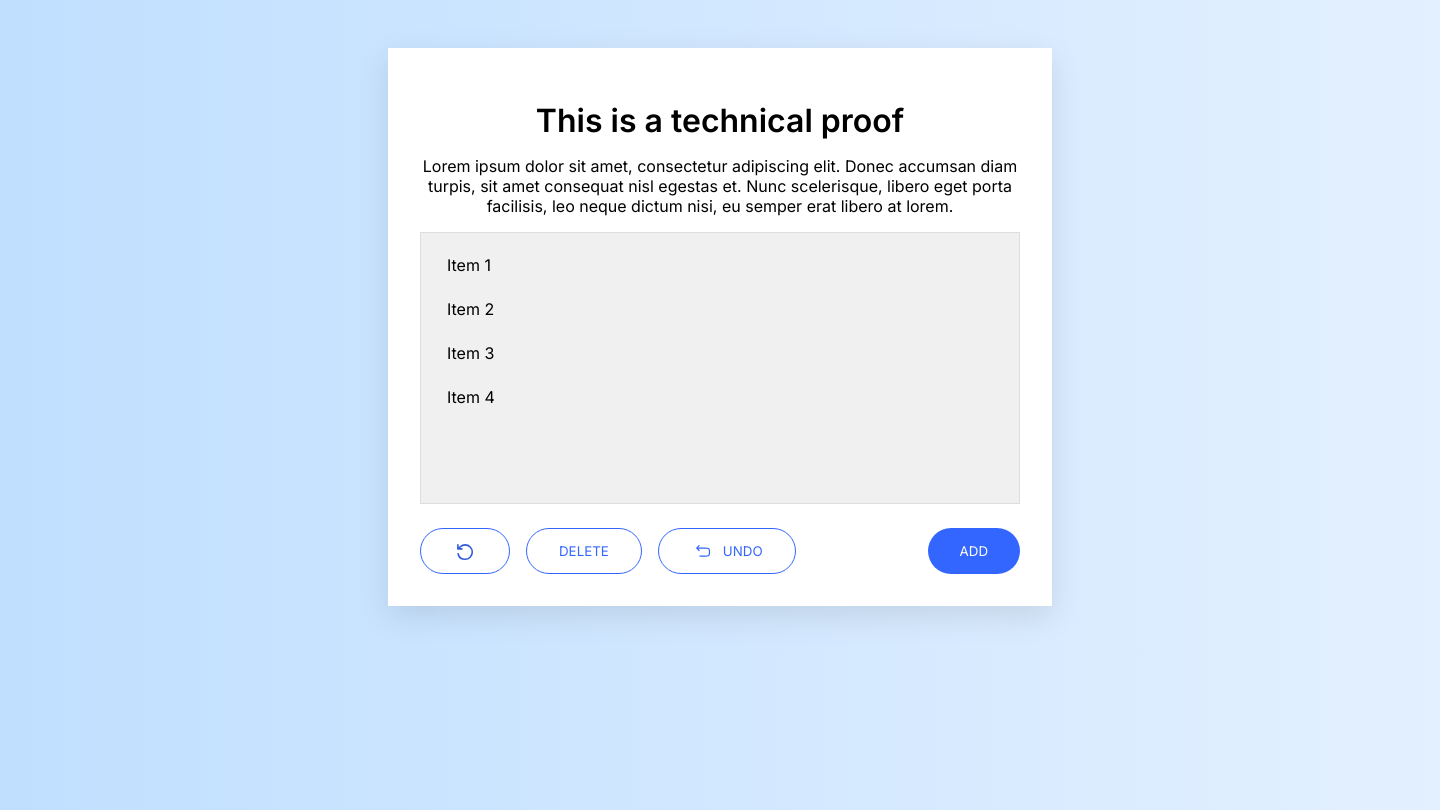
Scenario: Home component › selects and deletes an item
Click the option "Item 2": (471, 309) [447,299,494,319]
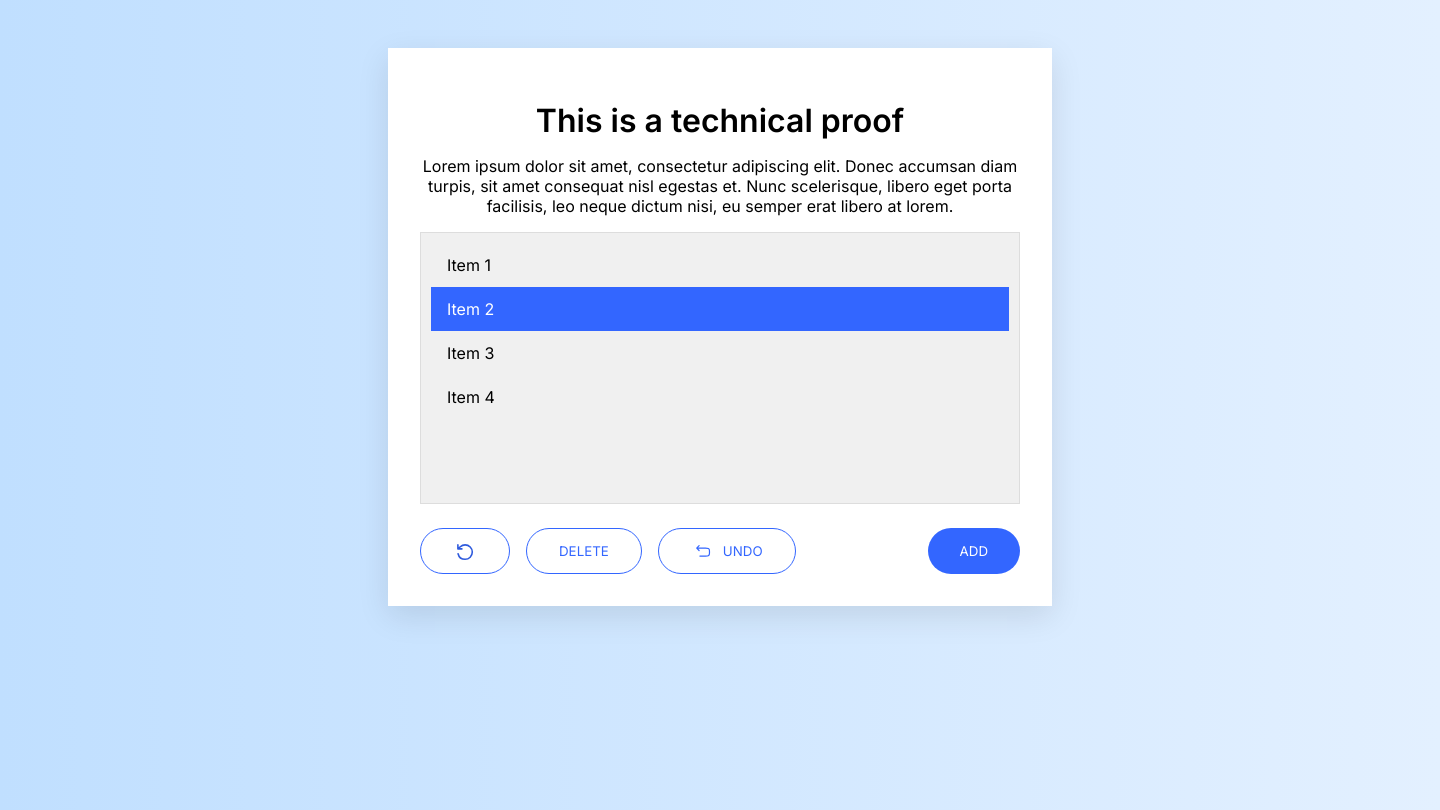
Click the button "DELETE": (584, 551) [526,528,642,574]
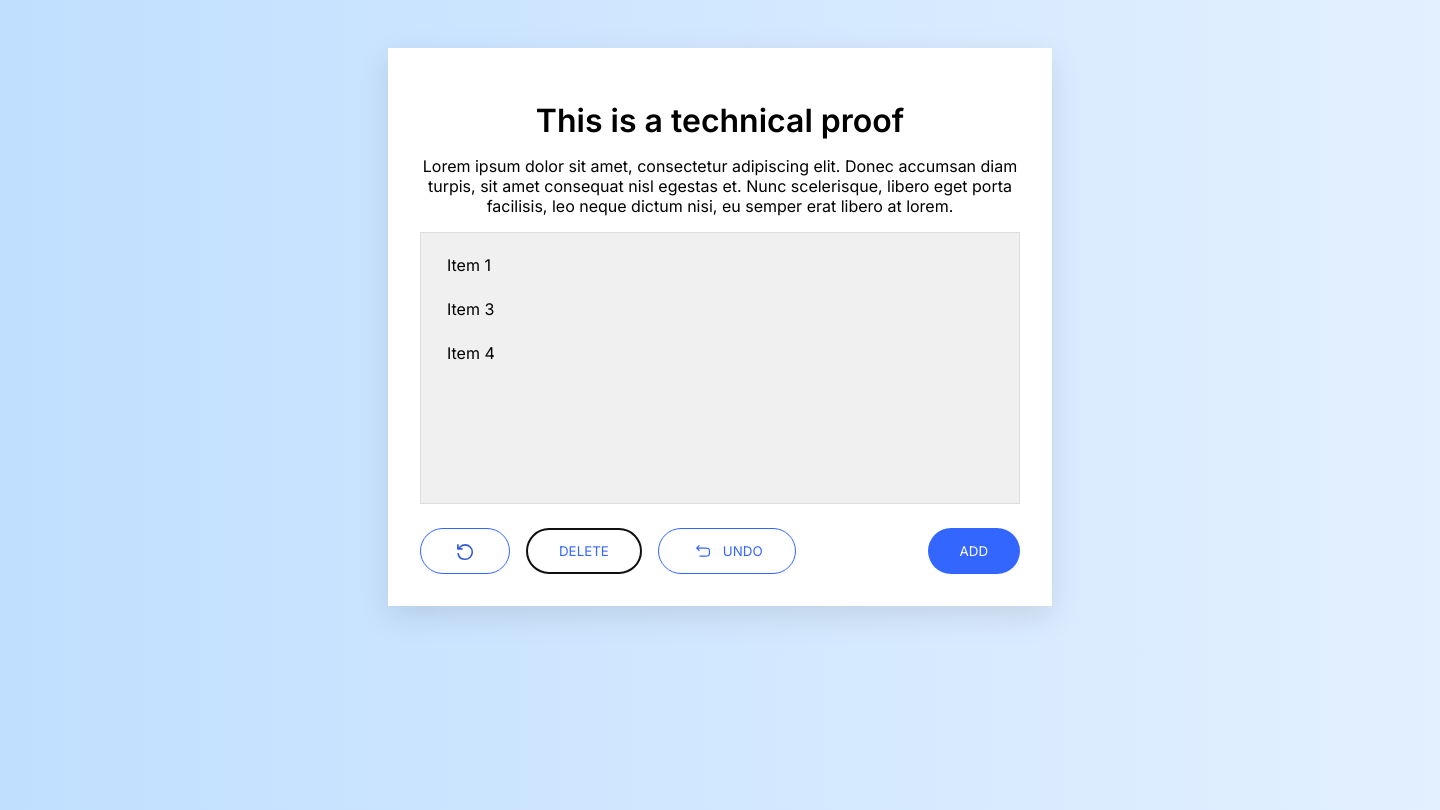
Expected: the option "Item 2" is gone
